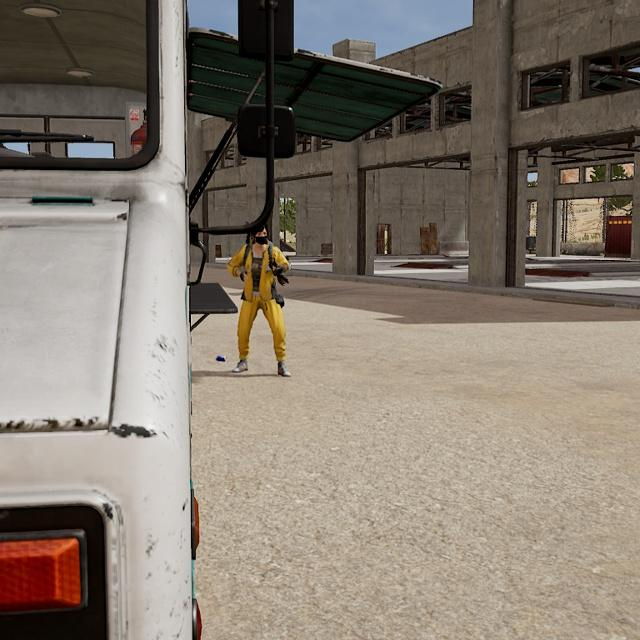head: (248, 219, 272, 246)
people: (226, 218, 294, 378)
